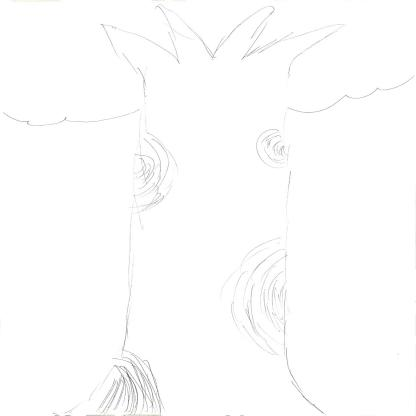branch_sharp: (92, 1, 345, 80)
crown_cloud: (4, 3, 415, 127)
knot: (225, 241, 298, 356), (85, 353, 166, 416), (129, 127, 180, 216), (258, 124, 296, 170)
trunk_straight: (110, 148, 305, 352)
